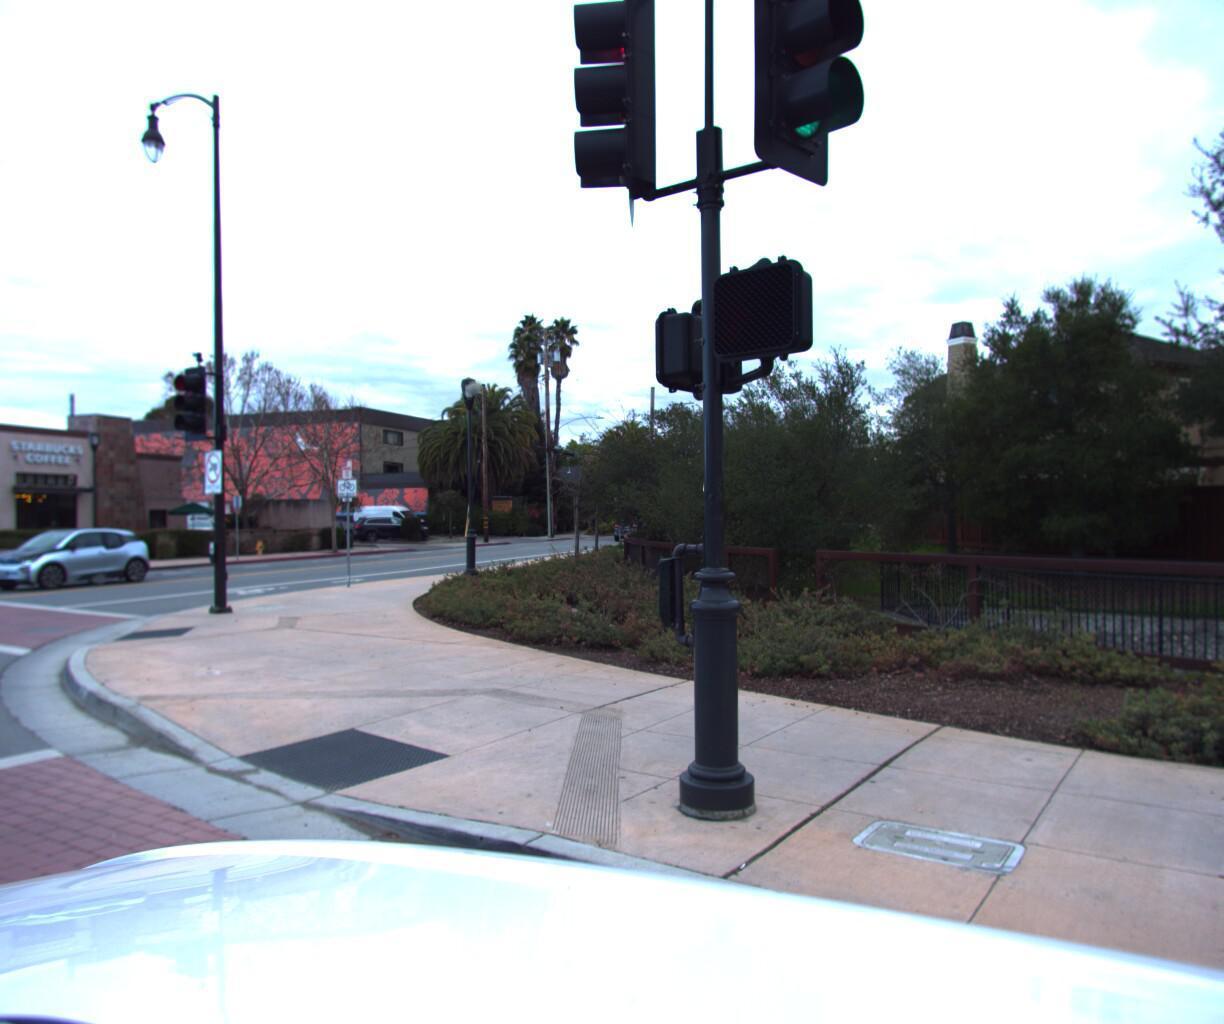car: (348, 513, 433, 541), (319, 513, 389, 540), (606, 516, 653, 541)
